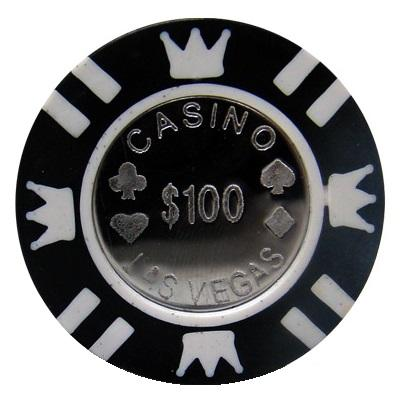chip-black: (16, 19, 384, 384)
